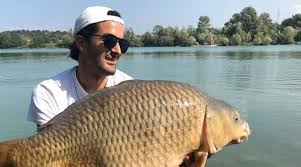carp: (1, 79, 252, 167)
